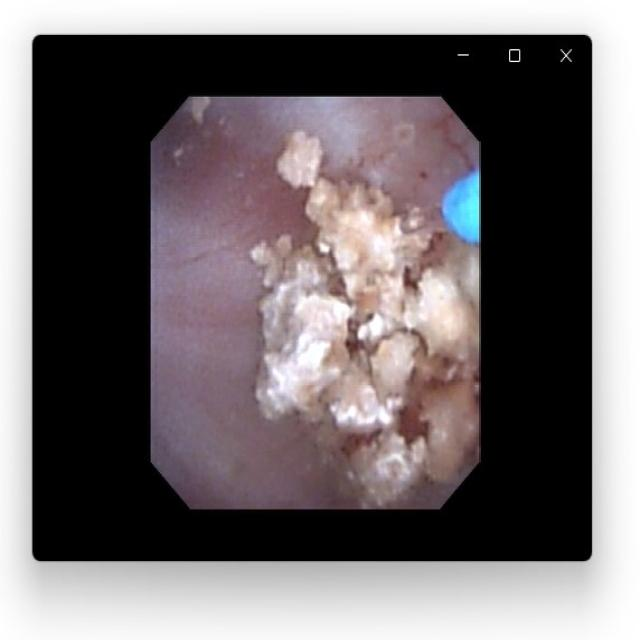fiber: (447, 174, 476, 240)
stone: (257, 181, 475, 499), (280, 133, 322, 188)
